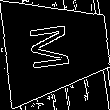M_E: (32, 22, 81, 74)
